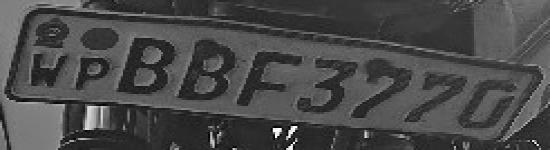0: (447, 73, 530, 132)
3: (289, 49, 366, 119)
7: (339, 52, 424, 127), (394, 64, 478, 130)
B: (112, 32, 176, 100), (178, 34, 236, 106)
F: (231, 41, 315, 109)
P: (69, 53, 111, 93)
W: (26, 49, 70, 92)
